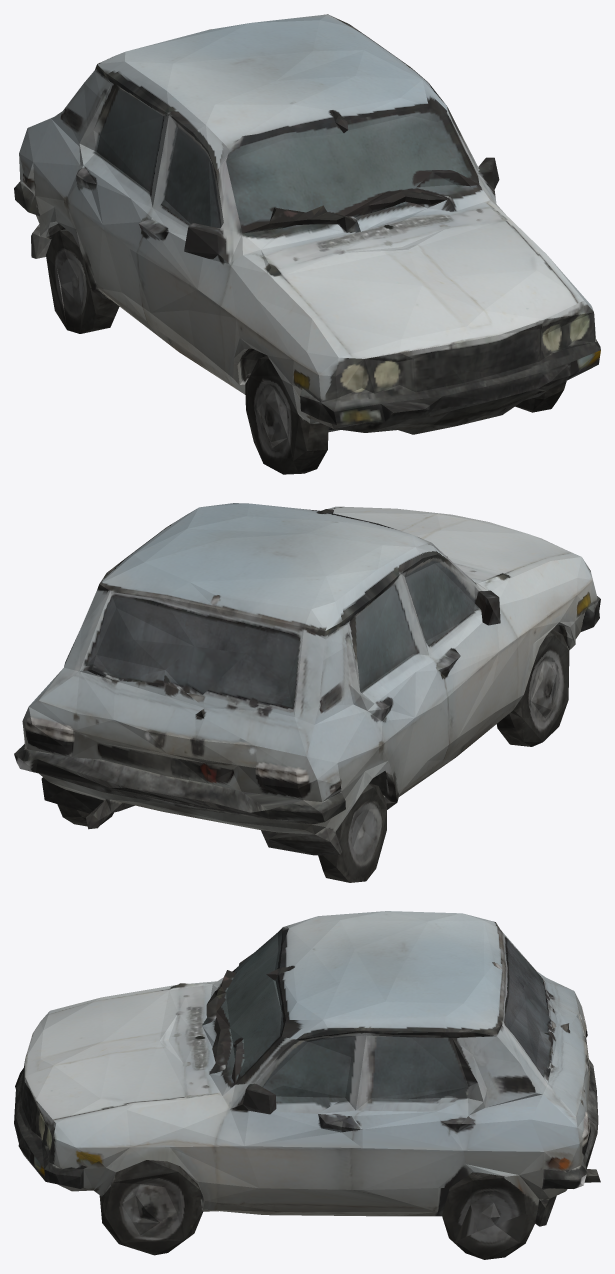
Rendered from dacia_lod.fbx.
3 views of the same model, one above another, from view 1: azimuth 30°, elevation 25°; view 2: azimuth 150°, elevation 25°; view 3: azimuth 270°, elevation 25° (orthographic). The views are drawn at different scales.
Parts seen in each view (by area): view 1: Mesh_0; view 2: Mesh_0; view 3: Mesh_0.
Part boxes in pixels (x1=…): Mesh_0: x1=14, y1=14, x2=600, y2=474; Mesh_0: x1=14, y1=503, x2=600, y2=882; Mesh_0: x1=14, y1=911, x2=600, y2=1259.
Bounding box in the file's own units: 1.74 × 1.44 × 3.13.
1 material, 1 textured.
